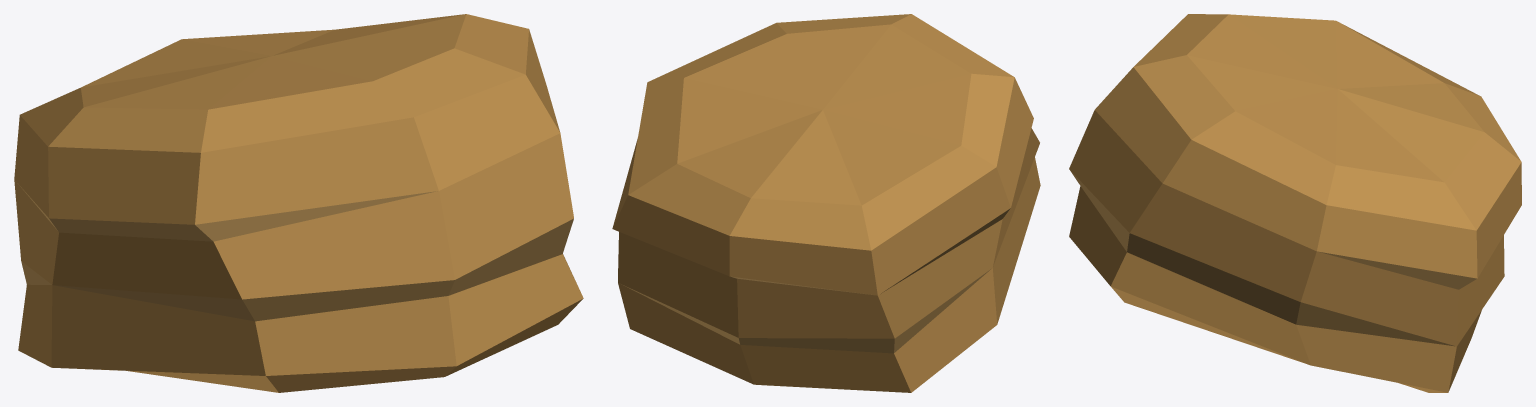
The model's file is SM_Chr_Attach_Turban_01.fbx.
3 views of the same model, side by side, from view 1: azimuth 30°, elevation 25°; view 2: azimuth 150°, elevation 25°; view 3: azimuth 270°, elevation 25° (orthographic). The views are drawn at different scales.
Visible parts, largest first — view 1: SM_Chr_Attach_Turban_01; view 2: SM_Chr_Attach_Turban_01; view 3: SM_Chr_Attach_Turban_01.
Part boxes in pixels (x1,y1,x2,y2): SM_Chr_Attach_Turban_01: (14,14,583,392); SM_Chr_Attach_Turban_01: (612,14,1040,392); SM_Chr_Attach_Turban_01: (1069,14,1521,392).
Size of the model in its own units: 31.77 by 22.75 by 32.1.
